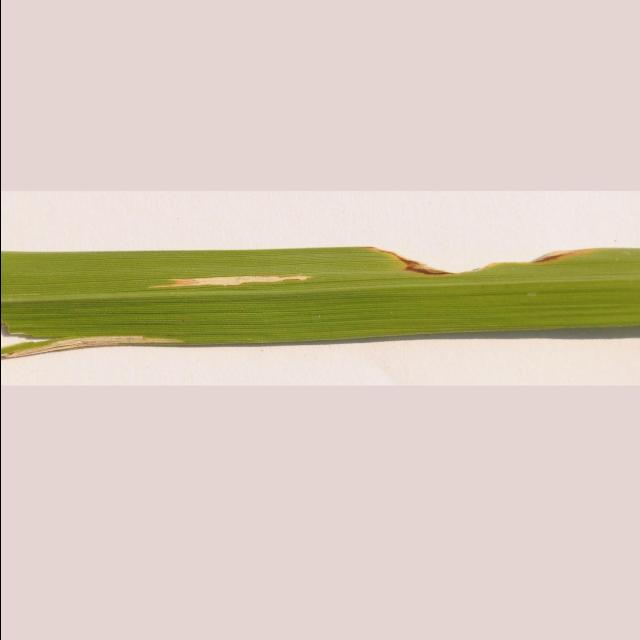Bacterial leaf blight: (0, 191, 640, 388)
